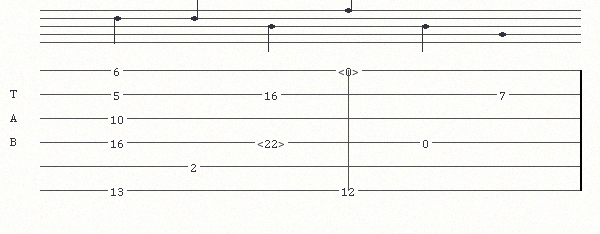0: (422, 136, 433, 148)
10: (110, 112, 128, 124)
12: (341, 184, 359, 196)
13: (110, 184, 128, 196)
16: (110, 136, 128, 148), (264, 88, 282, 100)
2: (190, 160, 201, 172)
5: (113, 88, 124, 100)
6: (113, 64, 124, 76)
7: (499, 88, 510, 100)
harmonic: (257, 136, 289, 148), (338, 64, 363, 76)
